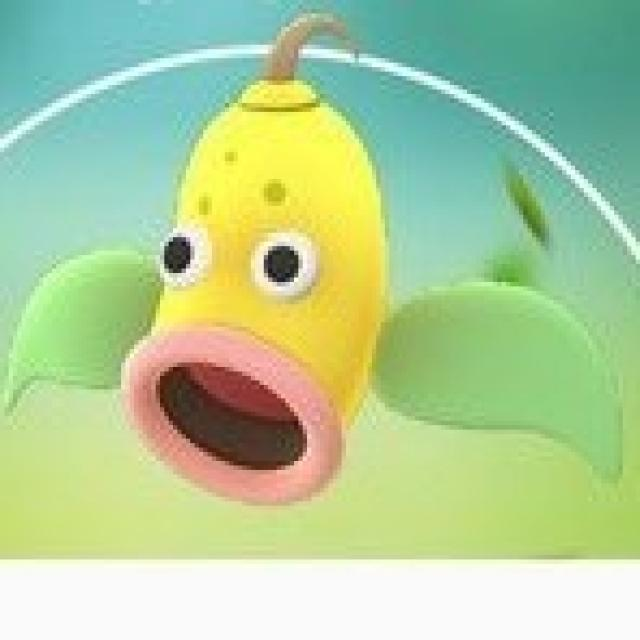Weepinbell: (112, 59, 425, 503)
